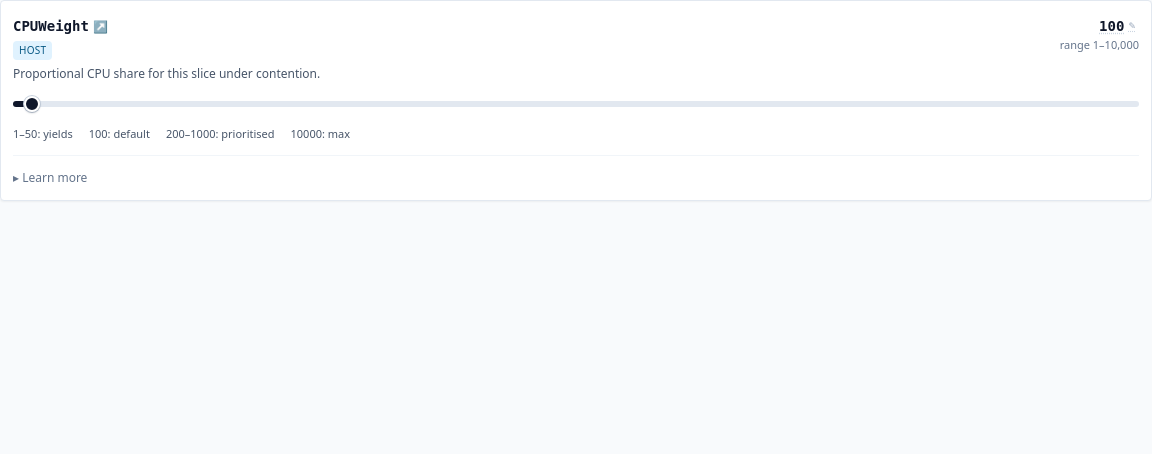
Scenario: ParameterCard with the systemd domain › shows the systemd docs label, not the swap one
The image size is (1152, 454).
Click the button "▸ Learn more".
click(50, 178)  # box [13,170,87,186]
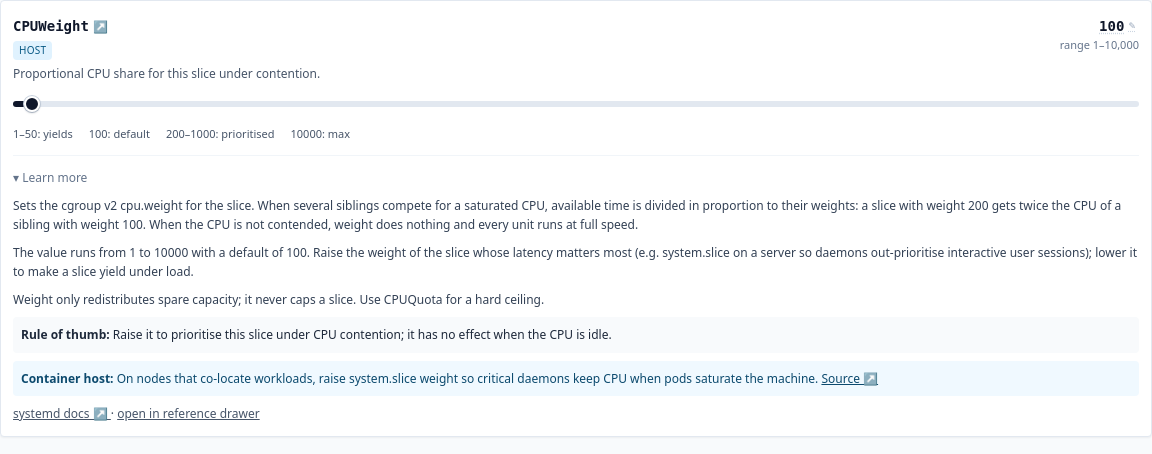
Check: the text "systemd docs" is shown, box [13,405,111,422]
